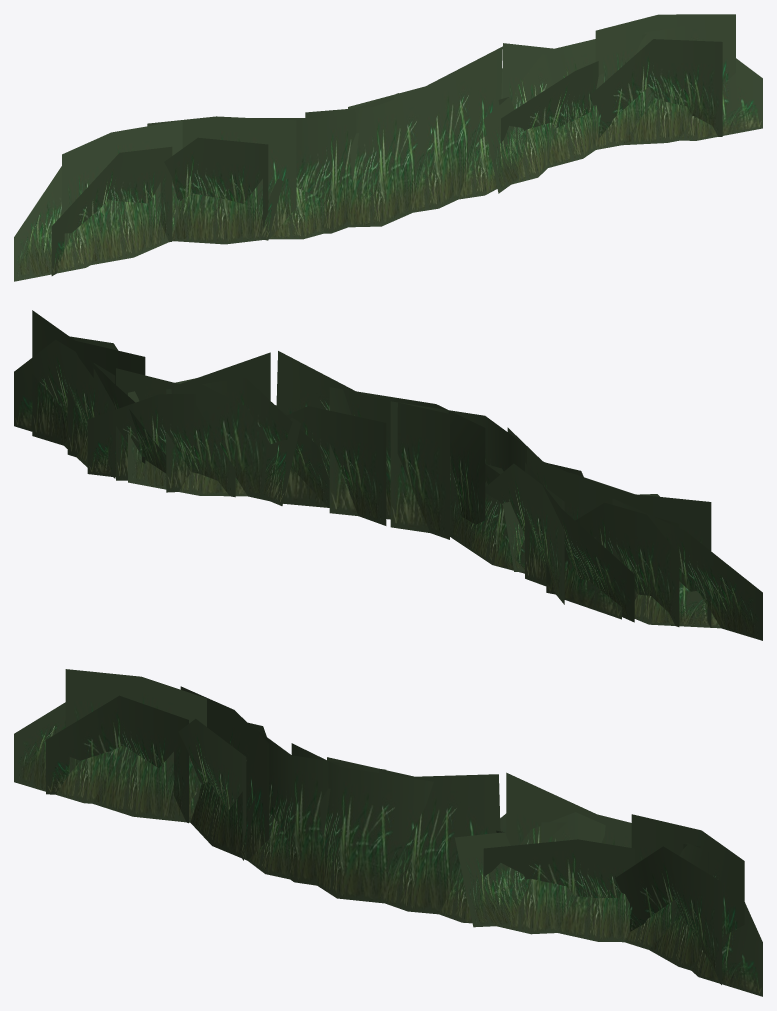
Rendered from grass_18feet.fbx.
3 views of the same model, one above another, from view 1: azimuth 30°, elevation 25°; view 2: azimuth 150°, elevation 25°; view 3: azimuth 330°, elevation 25° (orthographic). The views are drawn at different scales.
Visible parts, largest first — view 1: grass_18ft_03, grass_18ft_09, grass_18ft_017, grass_18ft_04, grass_18ft_024, grass_18ft_021, grass_18ft_02, grass_18ft_020, grass_18ft_012, grass_18ft_018, grass_18ft_013, grass_18ft_016 (+7 smaller); view 2: grass_18ft_04, grass_18ft_013, grass_18ft_015, grass_18ft_05, grass_18ft_019, grass_18ft_018, grass_18ft_023, grass_18ft_03, grass_18ft_014, grass_18ft_010, grass_18ft_011, grass_18ft_021 (+10 smaller); view 3: grass_18ft_03, grass_18ft_017, grass_18ft_04, grass_18ft_020, grass_18ft_09, grass_18ft_024, grass_18ft_013, grass_18ft_02, grass_18ft_021, grass_18ft_016, grass_18ft_08, grass_18ft_018 (+6 smaller).
Part boxes in pixels (bbox=[...]): grass_18ft_03: bbox=[305, 82, 443, 227]; grass_18ft_09: bbox=[147, 116, 296, 244]; grass_18ft_017: bbox=[62, 120, 182, 264]; grass_18ft_04: bbox=[348, 46, 502, 212]; grass_18ft_024: bbox=[590, 39, 722, 138]; grass_18ft_021: bbox=[595, 14, 735, 145]; grass_18ft_02: bbox=[252, 93, 398, 233]; grass_18ft_020: bbox=[51, 146, 172, 275]; grass_18ft_012: bbox=[164, 137, 268, 228]; grass_18ft_018: bbox=[14, 166, 103, 281]; grass_18ft_013: bbox=[503, 39, 604, 167]; grass_18ft_016: bbox=[501, 61, 598, 143]; grass_18ft_04: bbox=[276, 351, 449, 539]; grass_18ft_013: bbox=[116, 352, 270, 500]; grass_18ft_015: bbox=[87, 394, 235, 497]; grass_18ft_05: bbox=[255, 406, 386, 525]; grass_18ft_019: bbox=[546, 502, 679, 626]; grass_18ft_018: bbox=[612, 499, 762, 640]; grass_18ft_023: bbox=[14, 339, 115, 478]; grass_18ft_03: bbox=[329, 387, 485, 524]; grass_18ft_014: bbox=[166, 377, 329, 507]; grass_18ft_010: bbox=[525, 462, 634, 622]; grass_18ft_011: bbox=[485, 463, 564, 604]; grass_18ft_021: bbox=[32, 310, 145, 463]; grass_18ft_03: bbox=[291, 743, 433, 903]; grass_18ft_017: bbox=[65, 669, 206, 822]; grass_18ft_04: bbox=[327, 757, 500, 914]; grass_18ft_020: bbox=[46, 695, 188, 823]; grass_18ft_09: bbox=[180, 686, 269, 860]; grass_18ft_024: bbox=[615, 846, 721, 984]; grass_18ft_013: bbox=[506, 772, 631, 942]; grass_18ft_02: bbox=[250, 725, 385, 885]; grass_18ft_021: bbox=[631, 814, 744, 970]; grass_18ft_016: bbox=[483, 839, 634, 898]; grass_18ft_08: bbox=[454, 830, 528, 927]; grass_18ft_018: bbox=[14, 702, 115, 803].
Size of the model in its own units: 1990 by 363 by 261.
Materials: 1 (1 with a texture image).
